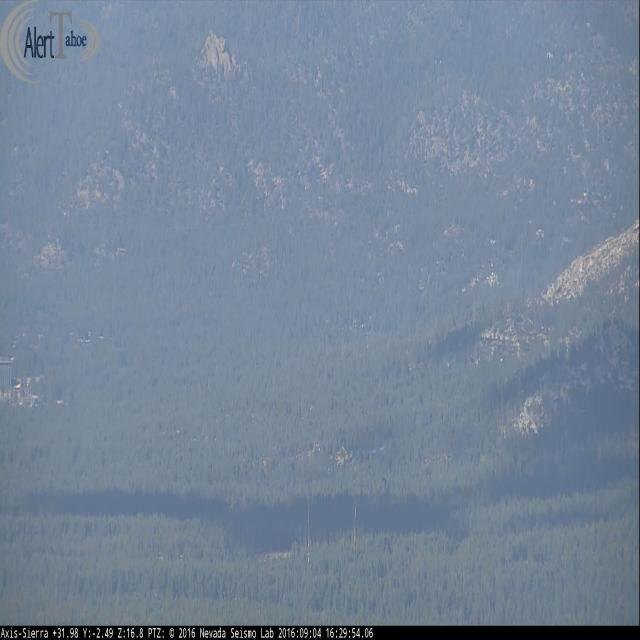smoke: (466, 268, 517, 312)
